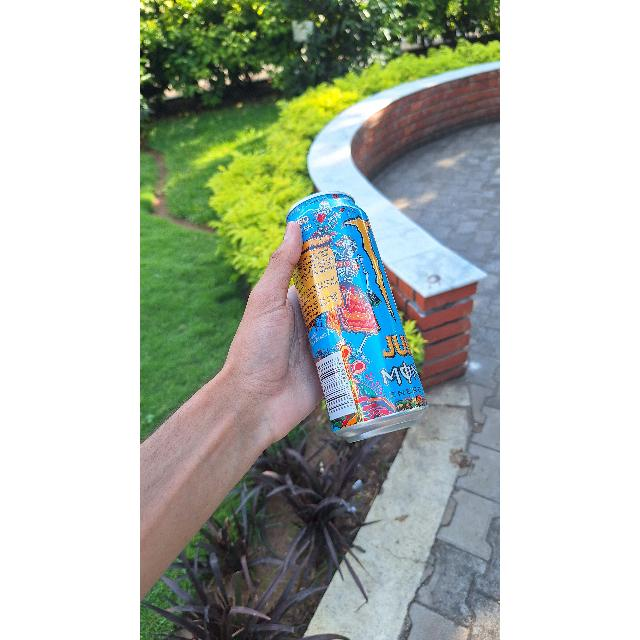Monster Mango Loco: (290, 190, 426, 446)
